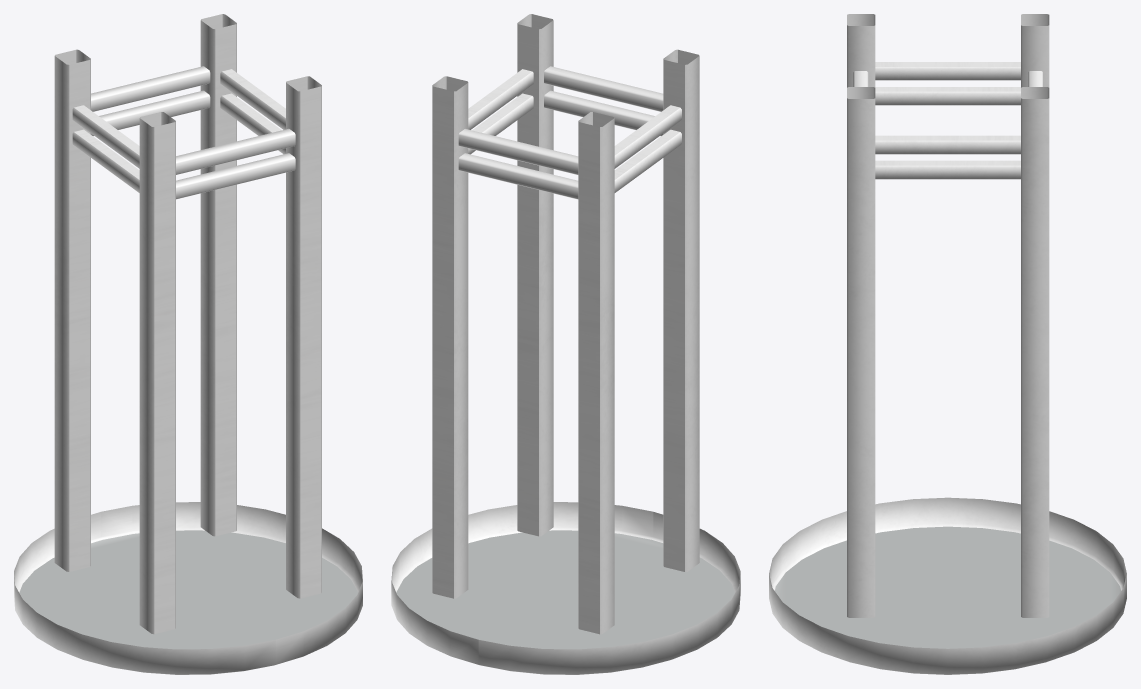
The model's file is BarStool.fbx.
3 renders of one model, left to right at view 1: azimuth 30°, elevation 25°; view 2: azimuth 150°, elevation 25°; view 3: azimuth 270°, elevation 25°, orthographic. The views are drawn at different scales.
Parts seen in each view (by area): view 1: BarStool; view 2: BarStool; view 3: BarStool.
Part boxes in pixels (<box>): BarStool: <box>14,14,362,674</box>; BarStool: <box>391,14,740,674</box>; BarStool: <box>769,14,1126,674</box>.
Bounding box in the file's own units: 50 × 83.93 × 50.
